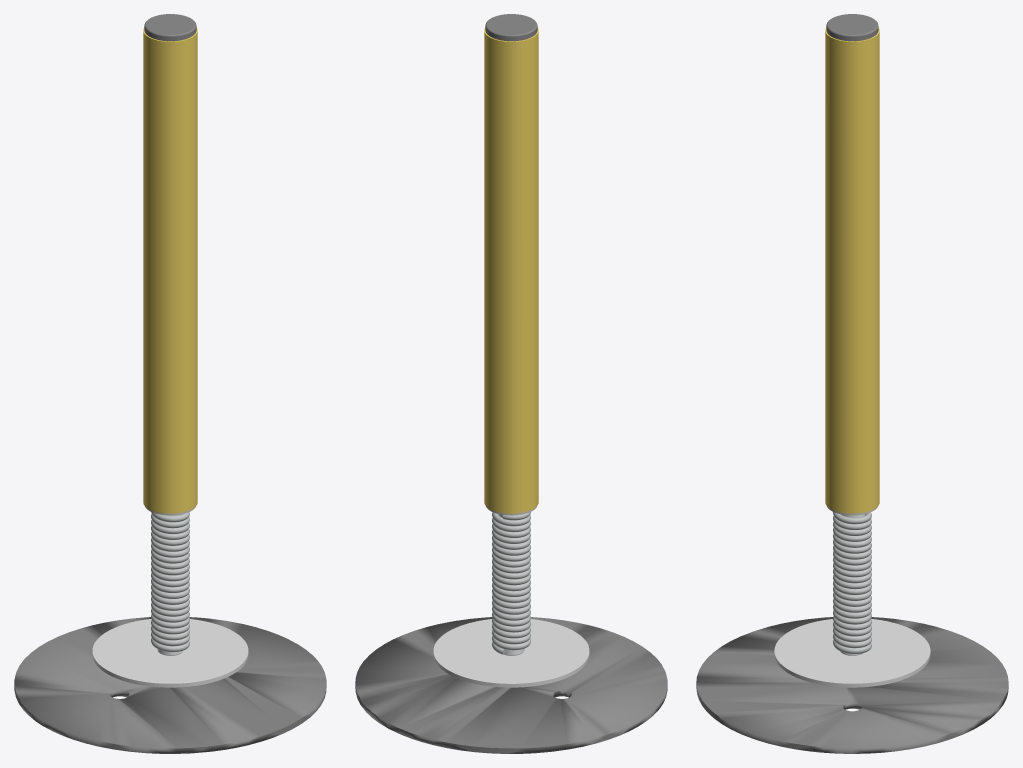
File: junction-short-50.fbx
3 renders of one model, left to right at view 1: azimuth 30°, elevation 25°; view 2: azimuth 150°, elevation 25°; view 3: azimuth 270°, elevation 25°, orthographic.
Parts seen in each view (by area): view 1: Body1.011, Body1, Body1.009, Body1.006, Body1.010; view 2: Body1.011, Body1, Body1.009, Body1.006, Body1.010; view 3: Body1.011, Body1, Body1.009, Body1.006, Body1.010.
Part boxes in pixels (x1,y1,x2,y2): Body1.011: [143, 27, 197, 513]; Body1: [14, 617, 326, 753]; Body1.009: [92, 619, 248, 687]; Body1.006: [151, 512, 189, 651]; Body1.010: [144, 14, 196, 41]; Body1.011: [484, 27, 538, 513]; Body1: [355, 617, 667, 753]; Body1.009: [433, 619, 589, 687]; Body1.006: [492, 512, 530, 654]; Body1.010: [485, 14, 537, 41]; Body1.011: [825, 27, 879, 513]; Body1: [696, 617, 1008, 753]; Body1.009: [774, 619, 930, 687]; Body1.006: [833, 512, 871, 653]; Body1.010: [826, 14, 878, 41].
Bounding box in the file's own units: 15.24 × 35.96 × 15.24.
